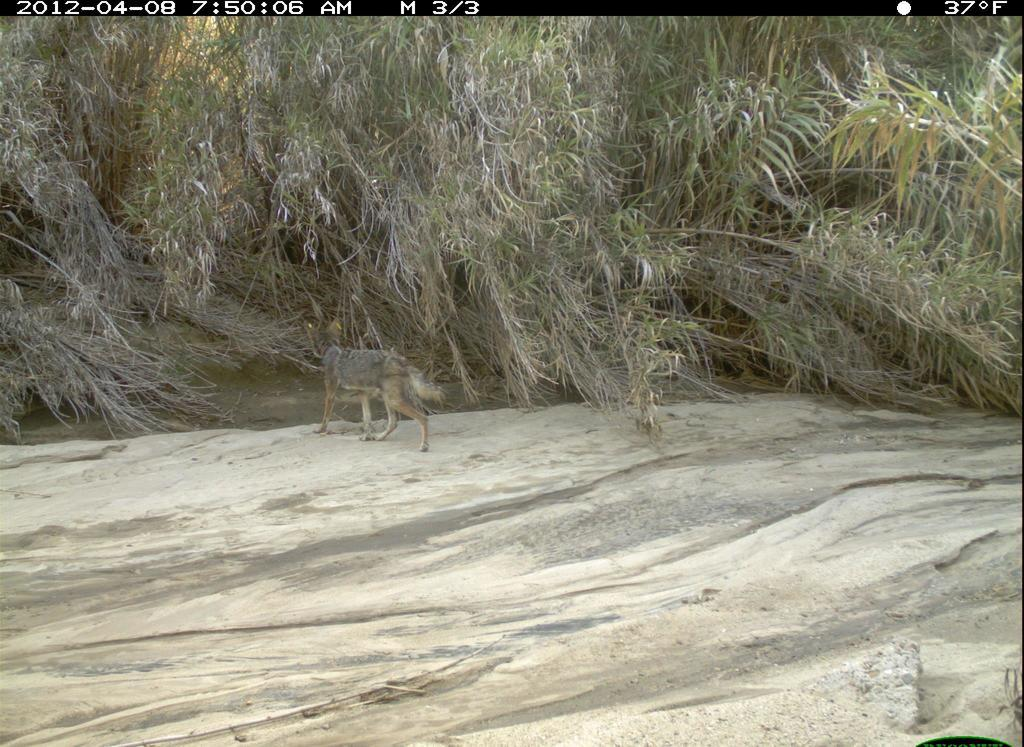coyote: (312, 336, 452, 456)
